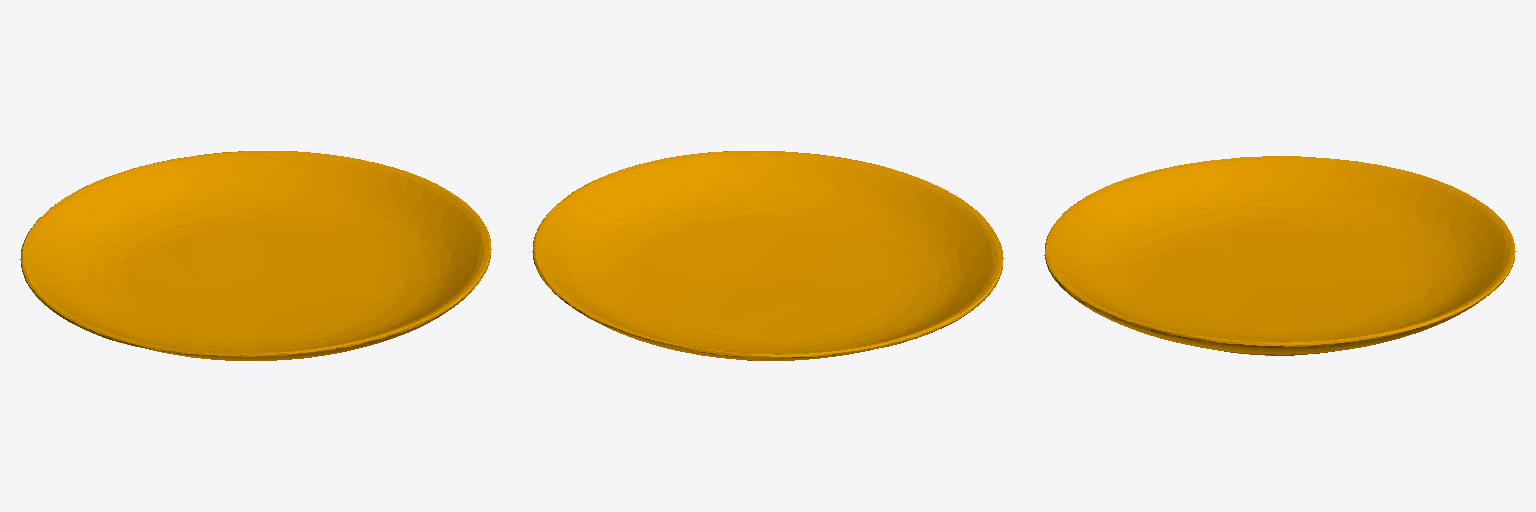
URDF robot description (plate.urdf):
<?xml version="1.0" ?>
<robot name="plate.urdf">
  <link name="plateLink">
    <contact>
      <lateral_friction value="1.0"/>
      <inertia_scaling value="3.0"/>
    </contact>
    <inertial>
      <origin rpy="0 0 0" xyz="0 0 0"/>
       <mass value=".1"/>
       <inertia ixx="1" ixy="0" ixz="0" iyy="1" iyz="0" izz="1"/>
    </inertial>
    <visual>
      <origin rpy="0 0 0" xyz="0 0 0"/>
      <geometry>
        <mesh filename="plate.obj" scale="1 1 1"/>
      </geometry>
    </visual>
    <collision>
      <origin rpy="0 0 0" xyz="0 0 0"/>
      <geometry>
        <mesh filename="plate.obj" scale="1 1 1"/>
      </geometry>
    </collision>
  </link>
</robot>

--- Facts derived from the render (not from the file) ---
3 views of the same robot in one strip: view 1: azimuth 30°, elevation 25°; view 2: azimuth 150°, elevation 25°; view 3: azimuth 270°, elevation 25° (orthographic).
Model plate.urdf with 1 links and 0 joints (none), rooted at plateLink, posed every joint at zero.
Links seen in each view (by area): view 1: plateLink; view 2: plateLink; view 3: plateLink.
Link boxes in pixels (<box>): plateLink: <box>20,151,491,360</box>; plateLink: <box>532,151,1003,360</box>; plateLink: <box>1044,156,1515,355</box>.
Size in the robot's own frame: 0.2745 by 0.274 by 0.0333 metres.
Meshes: 1 distinct files referenced, 1 mesh visuals loaded (1 OBJ).